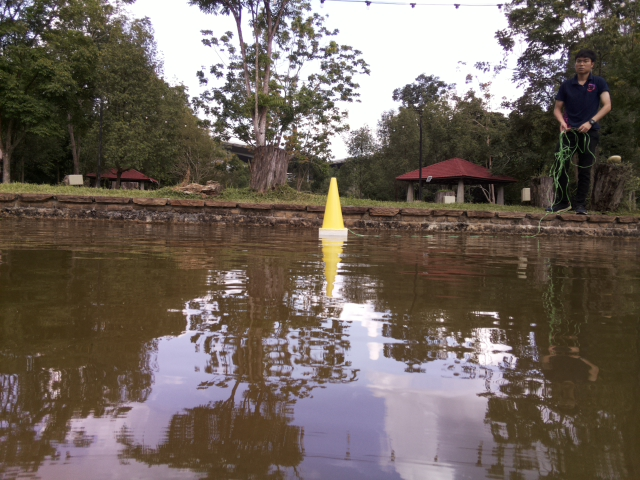checkpoint: (317, 177, 348, 237)
